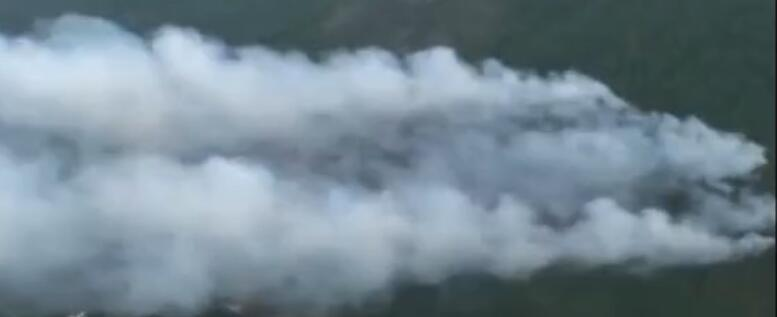smoke: (0, 19, 774, 304)
